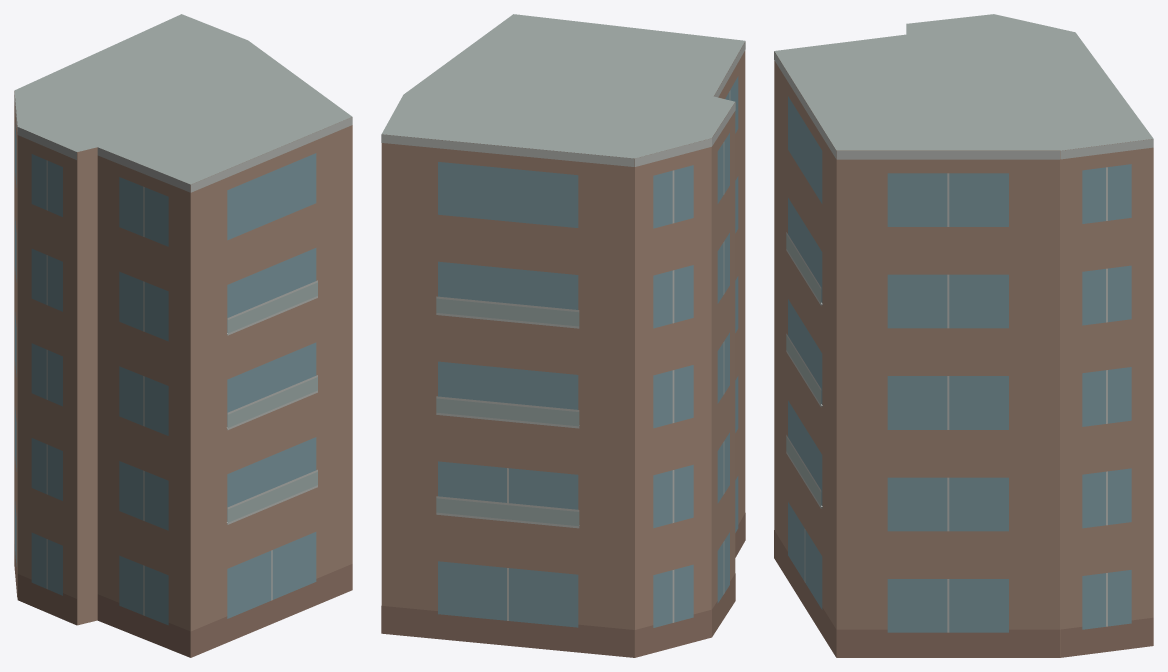
File: survey-upis-32479084.glb
The picture shows the model from 3 angles, left to right: view 1: azimuth 30°, elevation 25°; view 2: azimuth 150°, elevation 25°; view 3: azimuth 270°, elevation 25°; orthographic projection. The views are drawn at different scales.
Visible parts, largest first — view 1: survey-upis-32479084.tmp; view 2: survey-upis-32479084.tmp; view 3: survey-upis-32479084.tmp.
Boxes of the visible parts, bbox=[...] form: survey-upis-32479084.tmp: bbox=[14, 14, 352, 657]; survey-upis-32479084.tmp: bbox=[381, 14, 745, 657]; survey-upis-32479084.tmp: bbox=[774, 14, 1153, 657].
Bounding box in the file's own units: 8.17 × 14.1 × 9.57.
